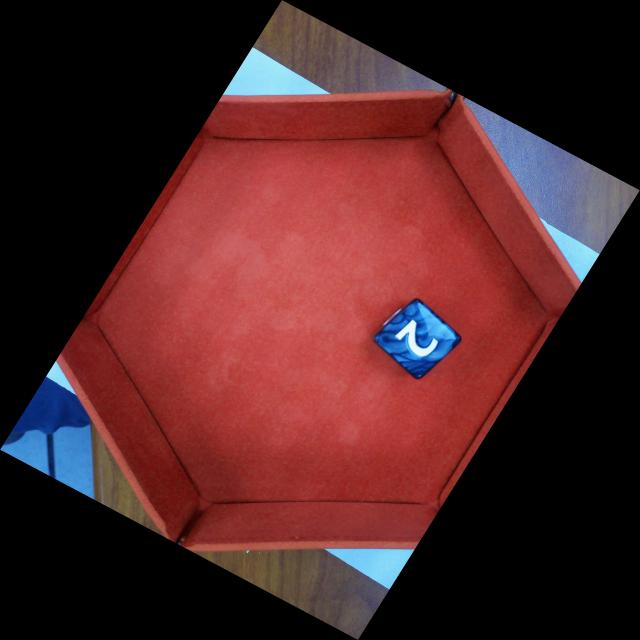dice: (371, 296, 465, 383)
